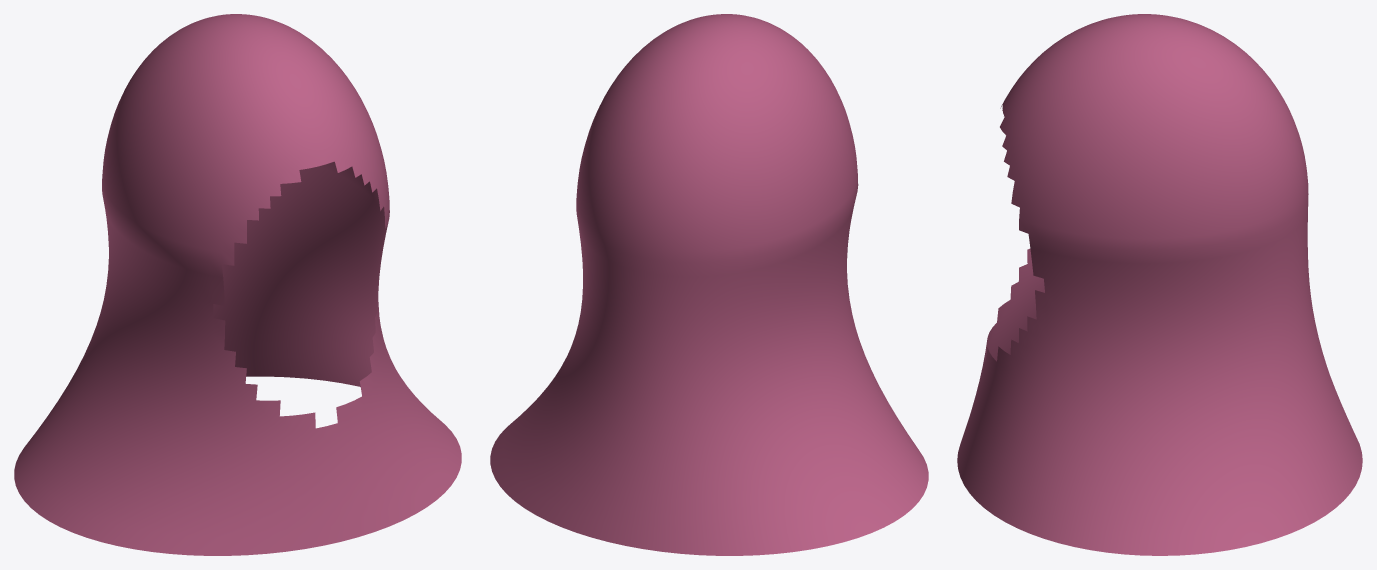
The model's file is hair-hijab.glb.
The picture shows the model from 3 angles, left to right: view 1: azimuth 30°, elevation 25°; view 2: azimuth 150°, elevation 25°; view 3: azimuth 270°, elevation 25°; orthographic projection. The views are drawn at different scales.
Visible parts, largest first — view 1: hijab; view 2: hijab; view 3: hijab.
Boxes of the visible parts, x1=… form: hijab: x1=14, y1=14, x2=461, y2=555; hijab: x1=490, y1=14, x2=928, y2=555; hijab: x1=957, y1=14, x2=1362, y2=555.
Bounding box in the file's own units: 0.3494 × 0.374 × 0.314.
